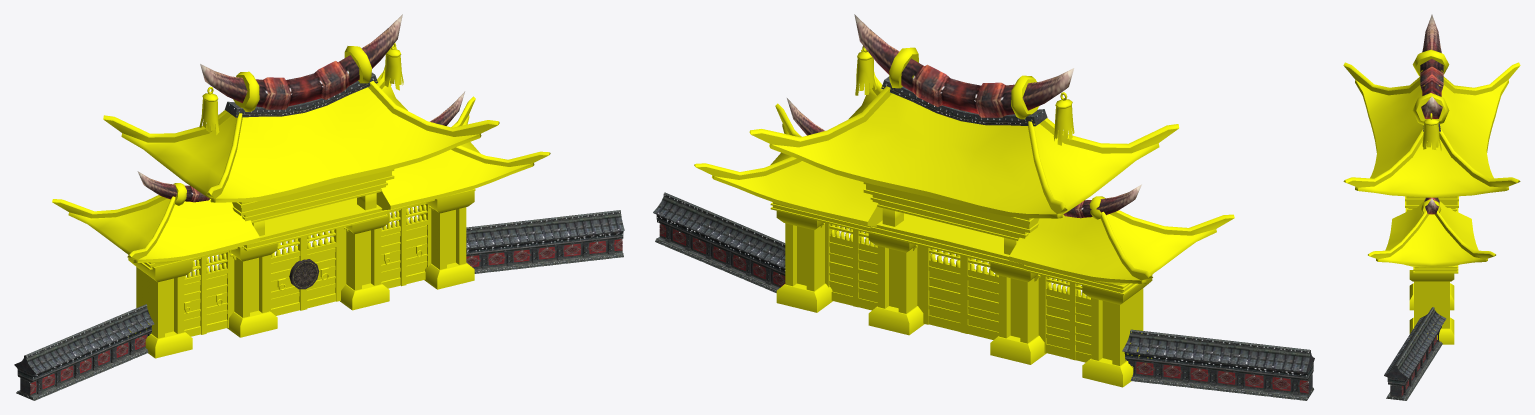
File: 3st_gate_001.glb
3 views of the same model, side by side, from view 1: azimuth 30°, elevation 25°; view 2: azimuth 150°, elevation 25°; view 3: azimuth 270°, elevation 25° (orthographic). The views are drawn at different scales.
Parts seen in each view (by area): view 1: 5st_gate_001; view 2: 5st_gate_001; view 3: 5st_gate_001.
Boxes of the visible parts, x1,y1,x2,y2 form: 5st_gate_001: [14, 14, 624, 400]; 5st_gate_001: [653, 14, 1314, 400]; 5st_gate_001: [1343, 14, 1520, 400].
Size of the model in its own units: 37.31 by 16.03 by 11.45.
Materials: 4 (4 with a texture image).
